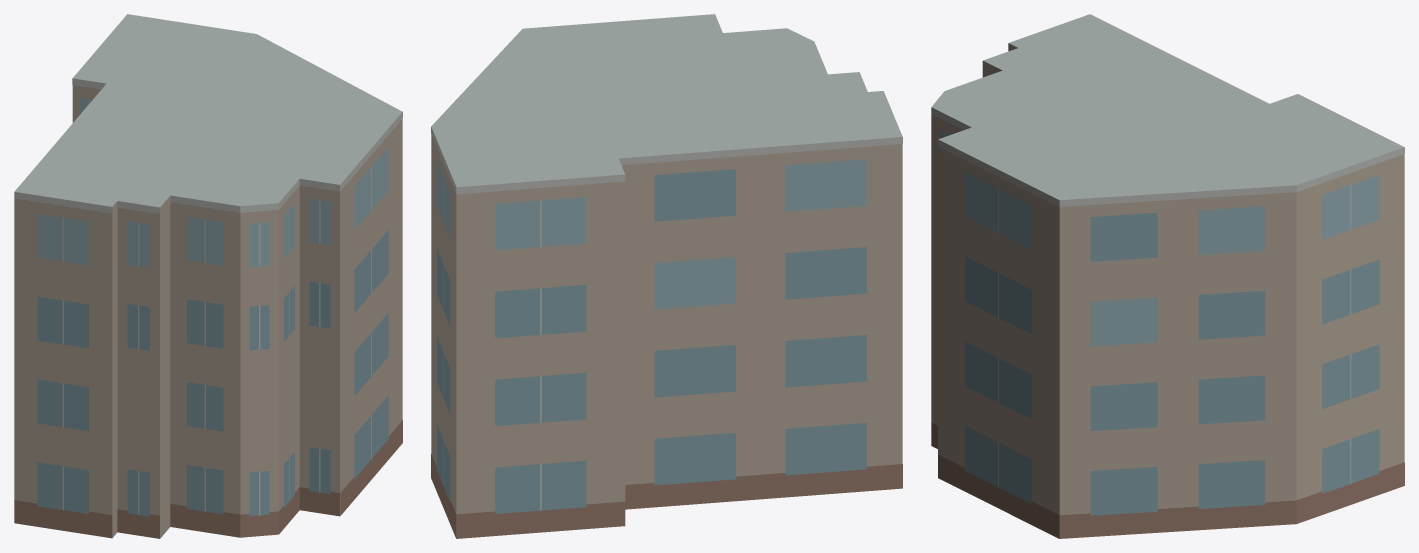
File: survey-upis-32773080.glb
3 renders of one model, left to right at view 1: azimuth 30°, elevation 25°; view 2: azimuth 150°, elevation 25°; view 3: azimuth 270°, elevation 25°, orthographic. The views are drawn at different scales.
Parts seen in each view (by area): view 1: survey-upis-32773080.tmp; view 2: survey-upis-32773080.tmp; view 3: survey-upis-32773080.tmp.
Boxes of the visible parts, x1=… form: survey-upis-32773080.tmp: x1=14, y1=14, x2=402, y2=538; survey-upis-32773080.tmp: x1=431, y1=14, x2=902, y2=538; survey-upis-32773080.tmp: x1=931, y1=14, x2=1404, y2=538.
Bounding box in the file's own units: 14.28 × 12.1 × 15.34.
